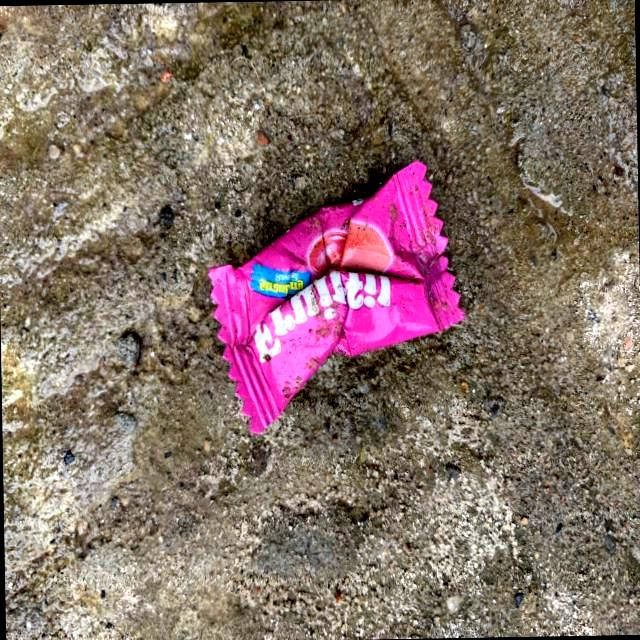packet: (207, 157, 477, 443)
